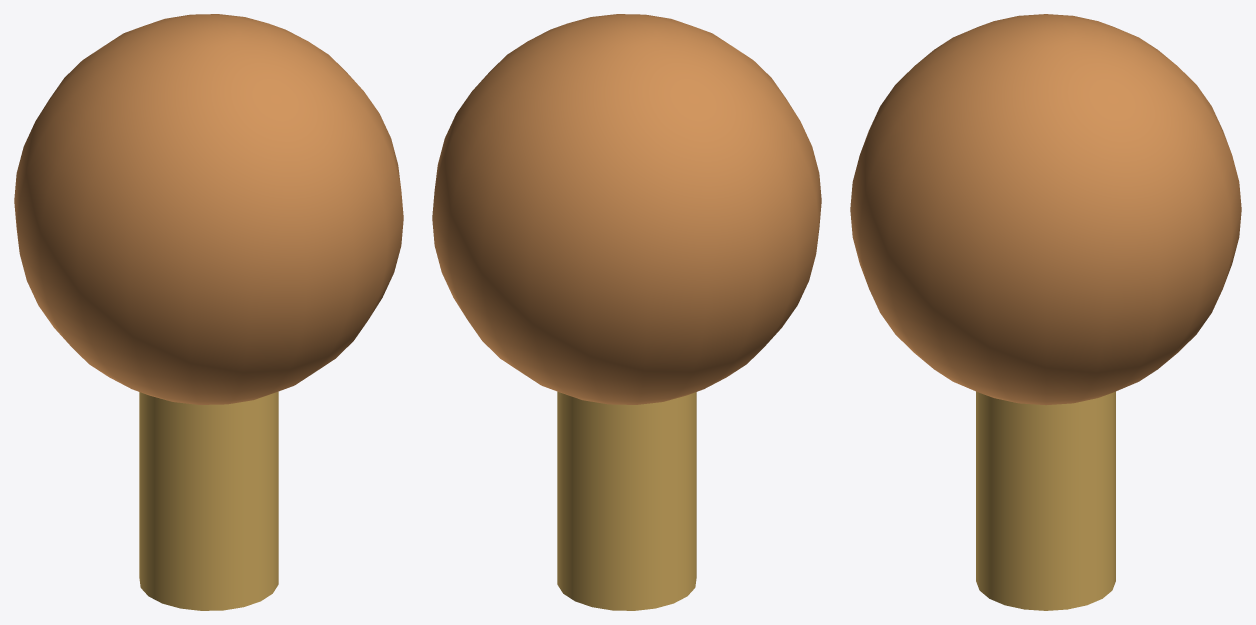
File: redonda_laranja.fbx
3 views of the same model, side by side, from view 1: azimuth 30°, elevation 25°; view 2: azimuth 150°, elevation 25°; view 3: azimuth 270°, elevation 25° (orthographic).
Visible parts, largest first — view 1: pSphere5, arvore16; view 2: pSphere5, arvore16; view 3: pSphere5, arvore16.
Boxes of the visible parts, <box> form: pSphere5: <box>14,14,403,404</box>; arvore16: <box>139,391,278,610</box>; pSphere5: <box>432,14,821,404</box>; arvore16: <box>557,391,696,610</box>; pSphere5: <box>850,14,1241,405</box>; arvore16: <box>976,391,1115,610</box>.
Bounding box in the file's own units: 1.5 × 2.32 × 1.5.
